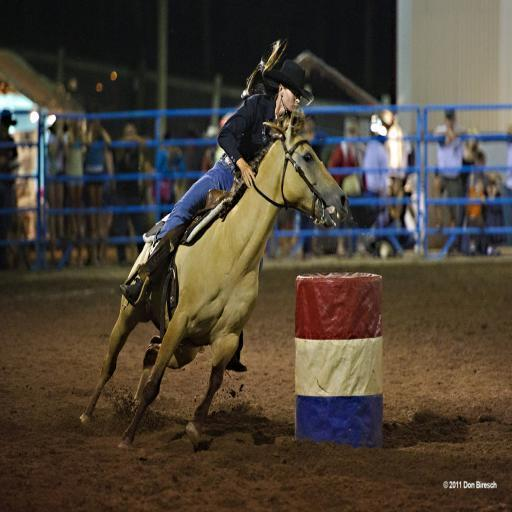horse: (75, 102, 349, 452)
